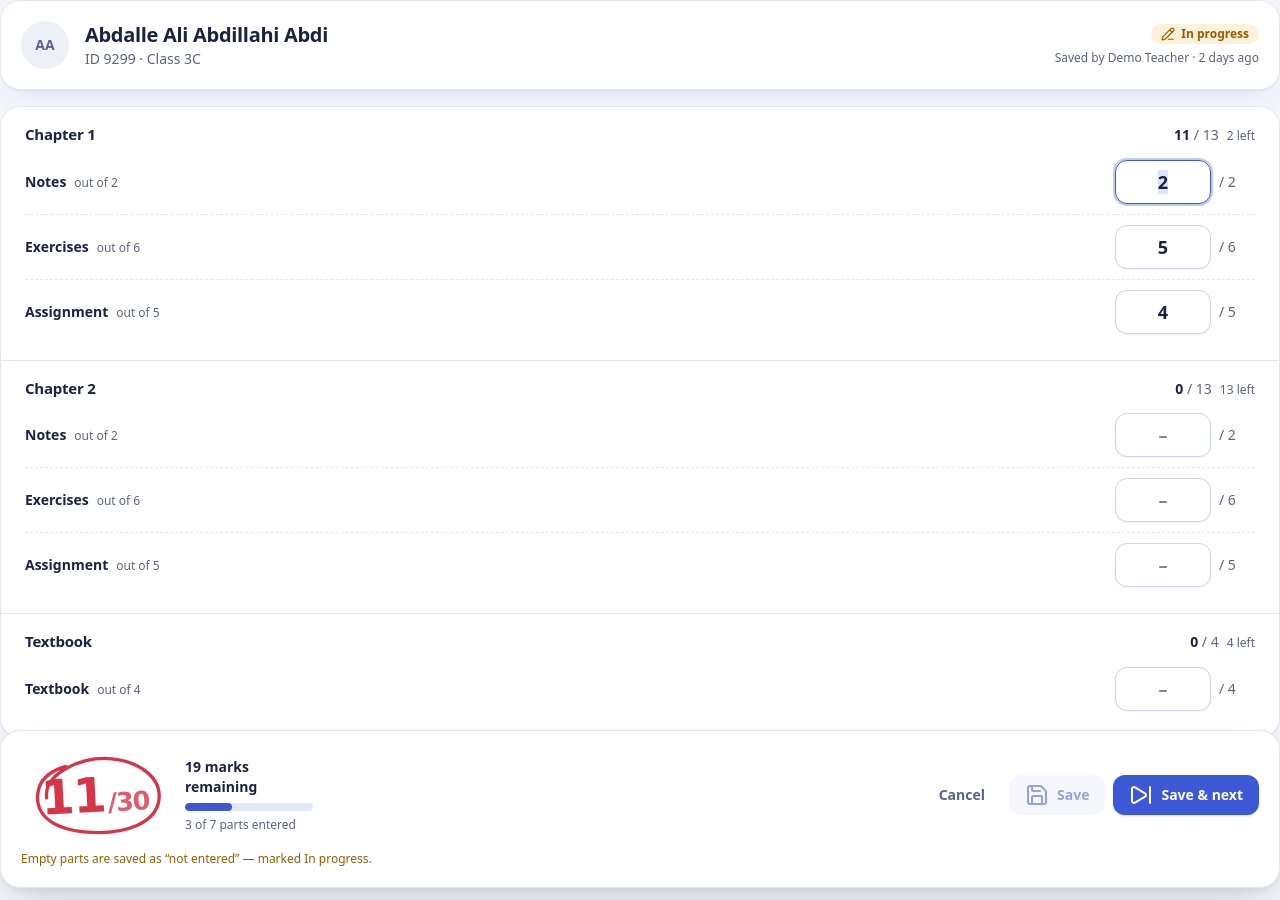
Test case: MarkSheet › keeps what was typed and explains when someone else changed the record (409)
Step 1. Type "2" into the field labelled "Textbook" → (1163, 688), box [1115,666,1211,710]
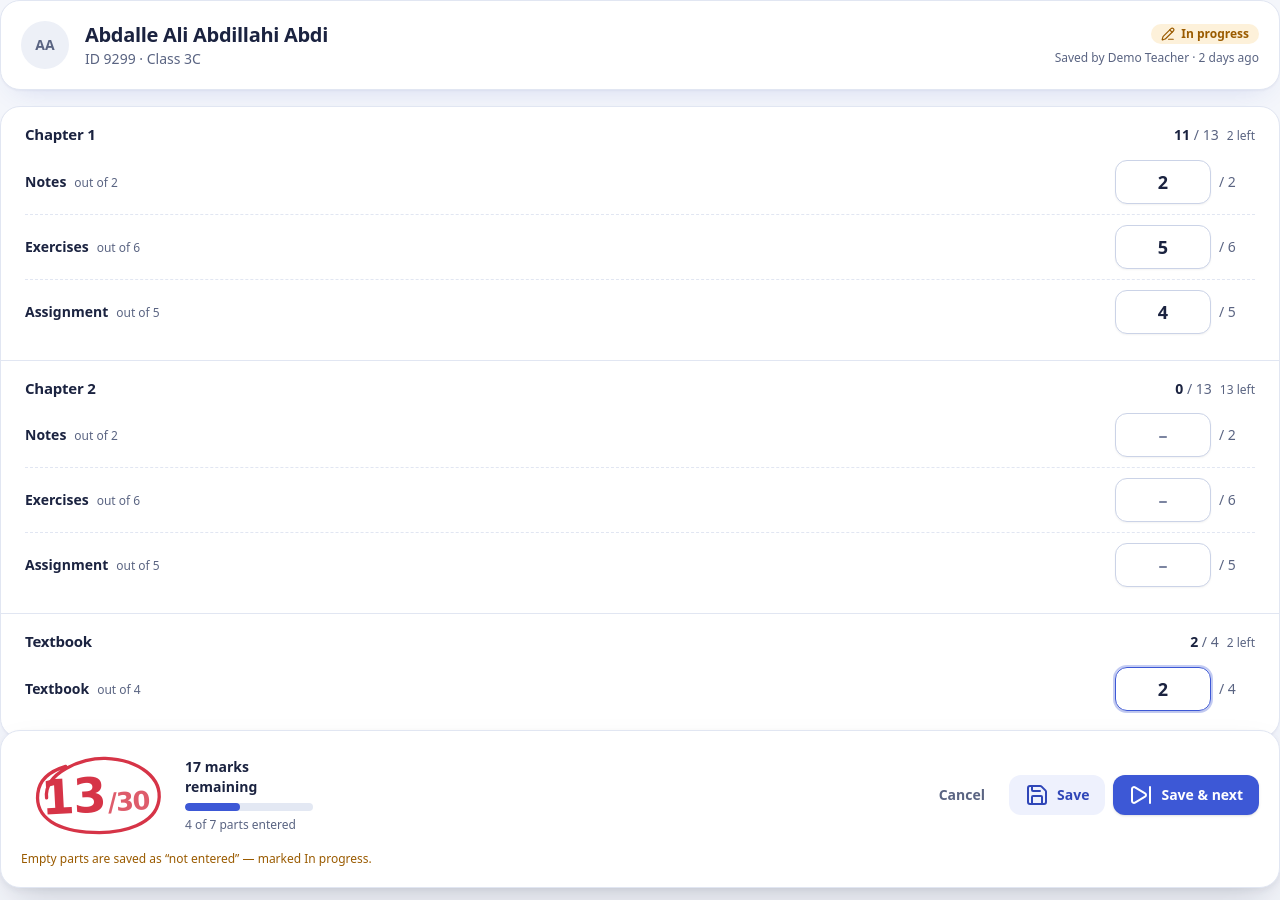
Step 2. Click the button "Save" → (1057, 795), box [1009,775,1105,815]
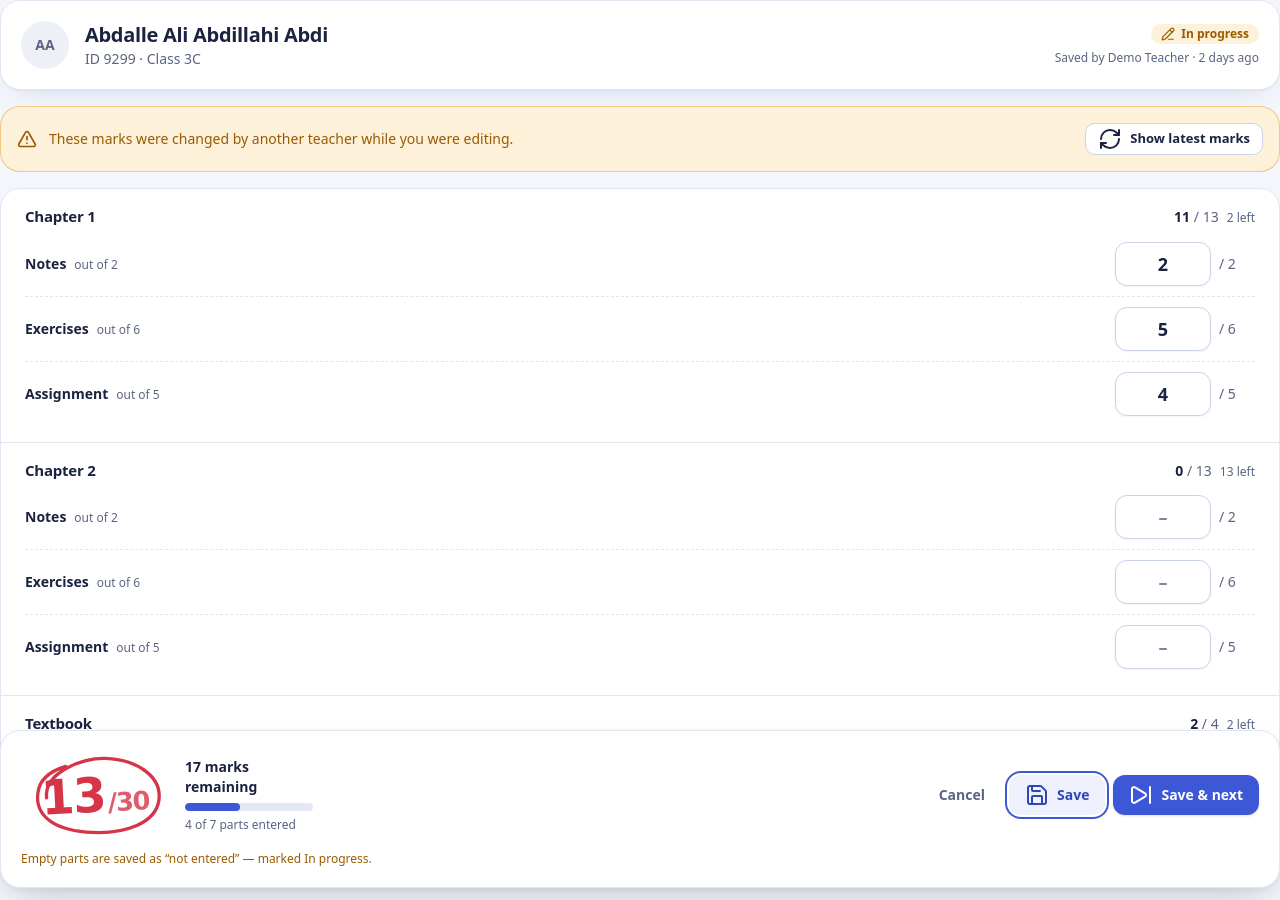
Result: the text "changed by another teacher" is shown at [49,129,513,148]
Result: the button "Show latest marks" is shown at [1085,123,1263,155]
